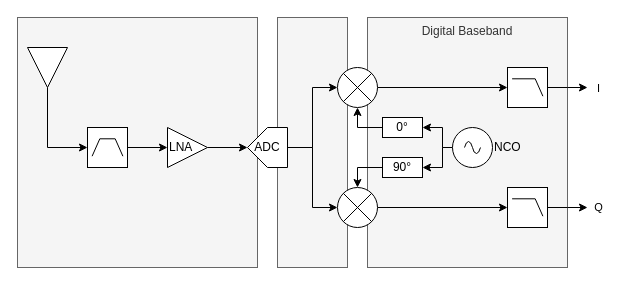
The diagram is 620 pixels wide and 285 high, and some of its shapes have lost their labels. Here are the shapes that lost their labels. From the top down, the box of each, then its label:
(16, 16, 258, 268): Analog RF
(276, 16, 348, 268): Digital RF
